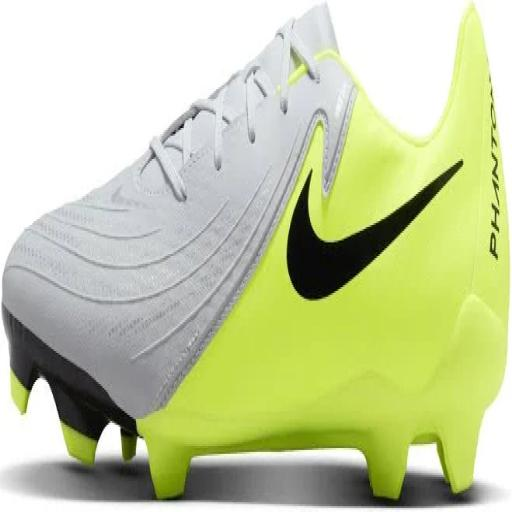shoe: (2, 6, 509, 498)
